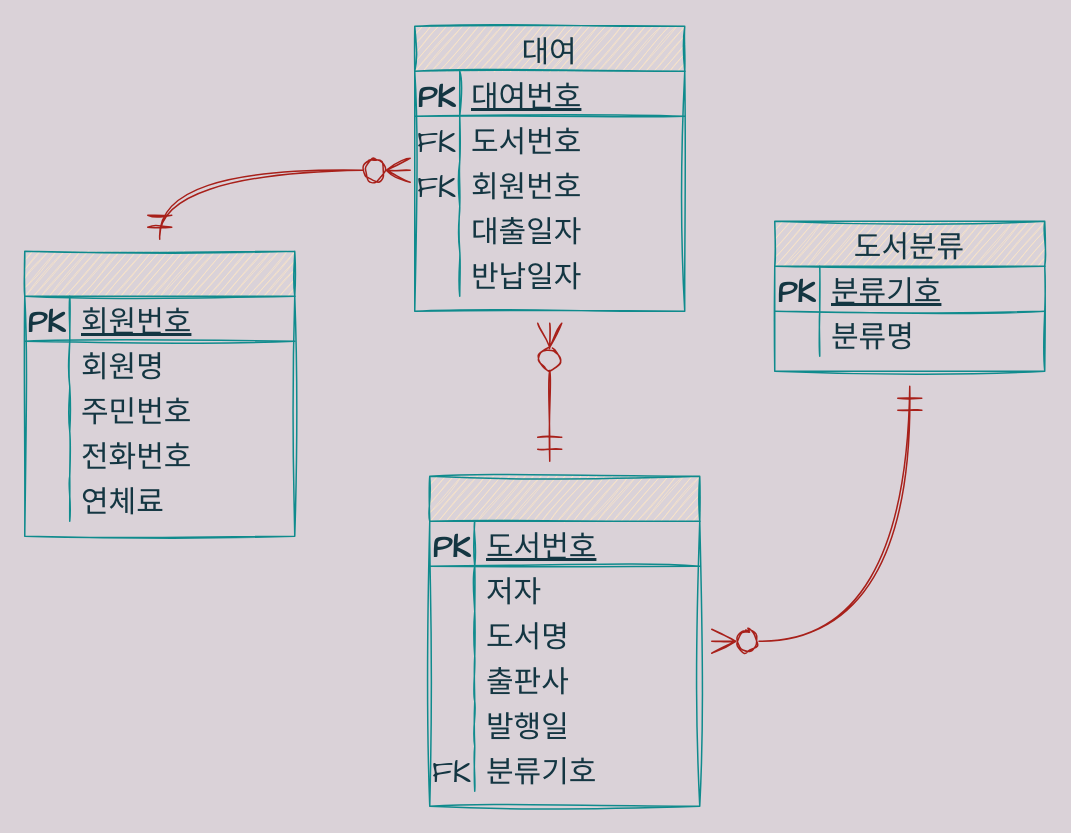
The diagram is 1071 pixels wide and 833 high, and some of its shapes have lost their labels. Each missing label, with the box of its shape:
도서: (428, 475, 700, 806)
회원: (23, 250, 295, 536)
